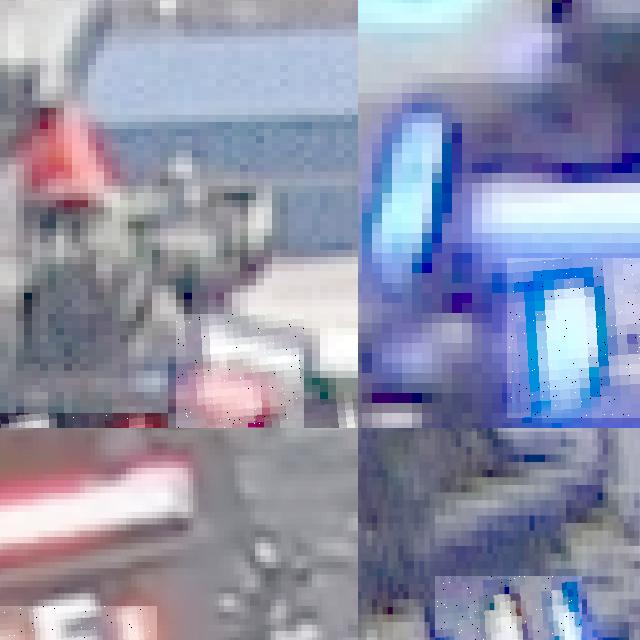B1: (435, 576, 582, 640)
B5: (507, 258, 640, 418)
R1: (176, 314, 304, 428)
R5: (0, 606, 157, 640)
